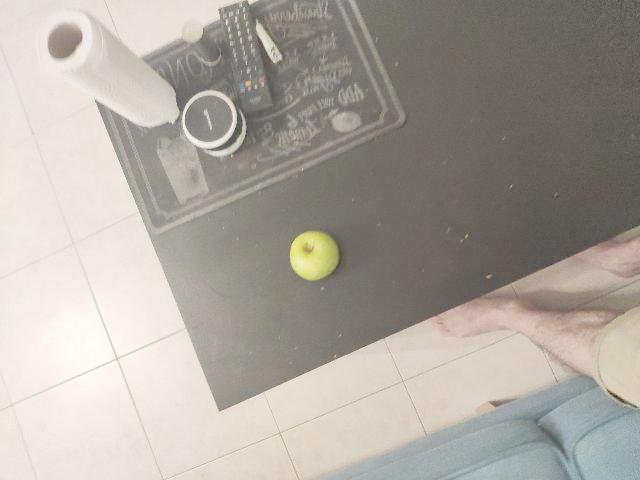apple: (198, 289, 252, 342)
